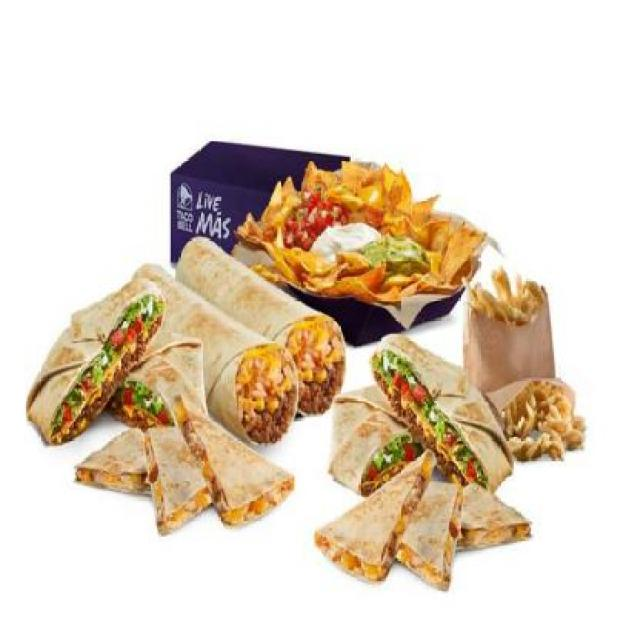breakfast burrito: (125, 216, 349, 436)
chicken quesadilla: (310, 456, 541, 602), (68, 418, 301, 537)
french fries: (455, 267, 563, 371)
guacamole: (364, 224, 436, 282)
nachos: (246, 161, 485, 324)
